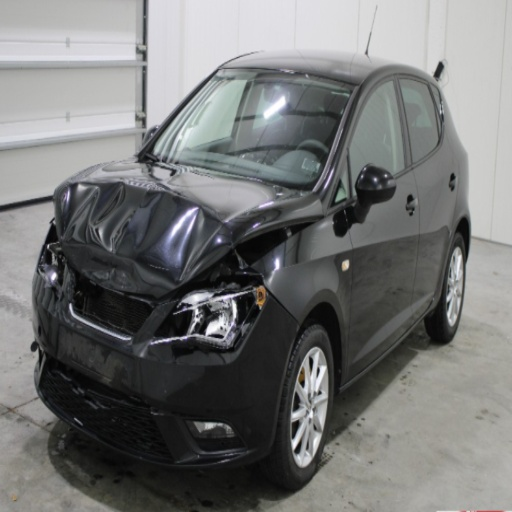dent: (53, 181, 233, 298), (233, 255, 283, 293)
